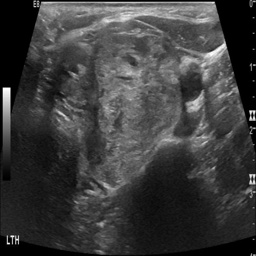mass: (88, 32, 183, 186)
